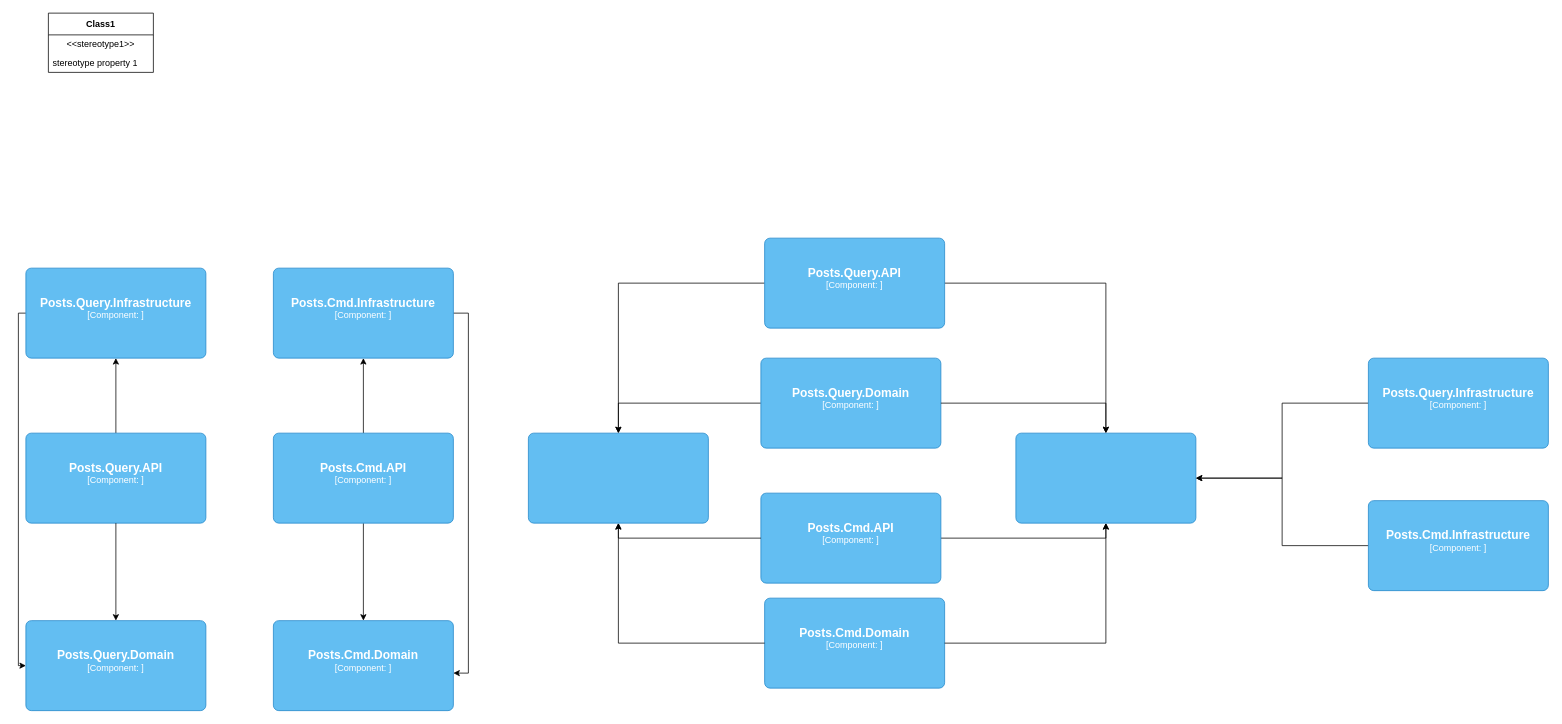
This 1562x724 diagram has some shape labels left out. Each missing label, with the centre of its shape:
"CQRS Core [Component: ]" belongs at (1105,477).
"Post.Common [Component: ]" belongs at (618,477).
